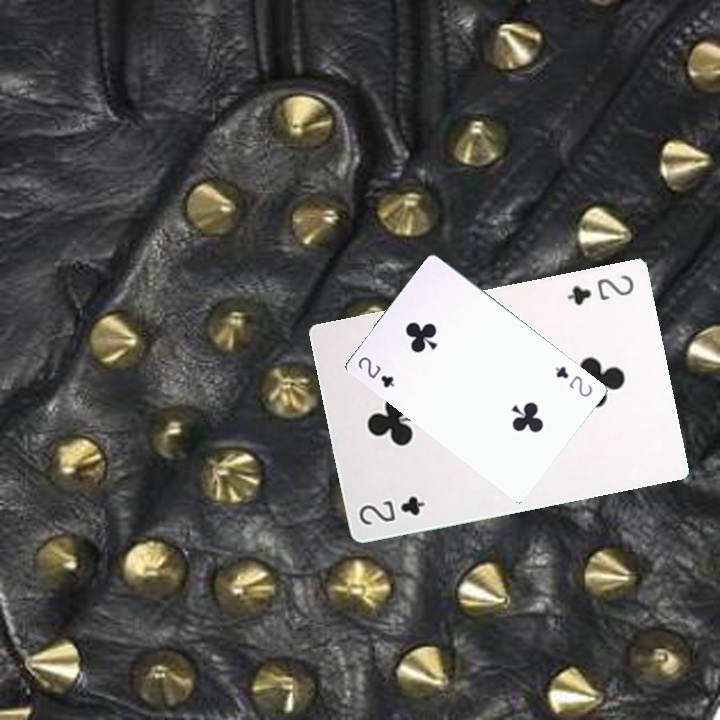2c: (563, 271, 636, 308), (354, 491, 427, 528), (551, 362, 595, 400), (354, 353, 397, 390)
